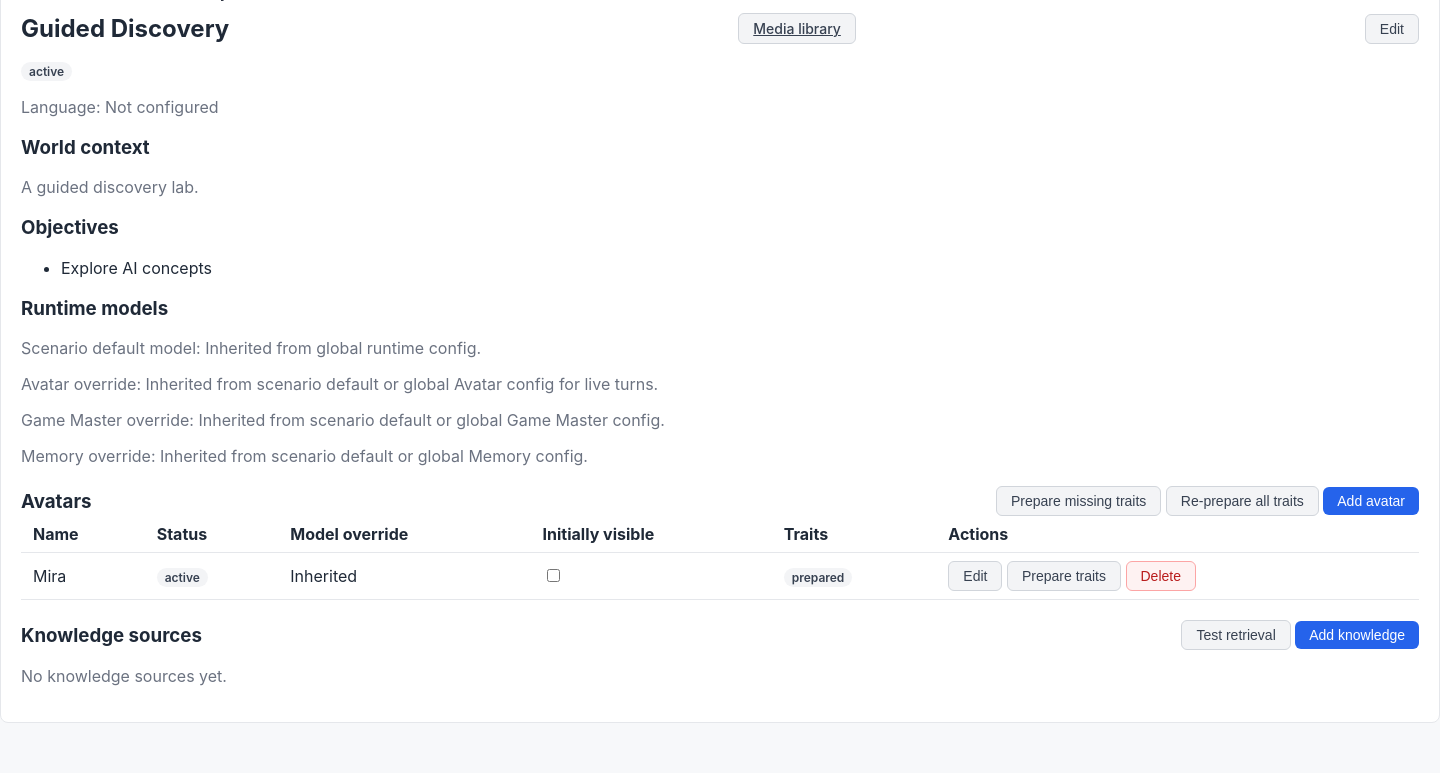
it: ScenarioDetailPage read-only computed traits › shows the seven computed trait sections read-only in the avatar edit panel
Expected: the heading "Guided Discovery" is shown, [21, 14, 229, 43]
Click the button "Edit" in the row of "Mira": (975, 576) [948, 561, 1002, 591]
(page scrolled)
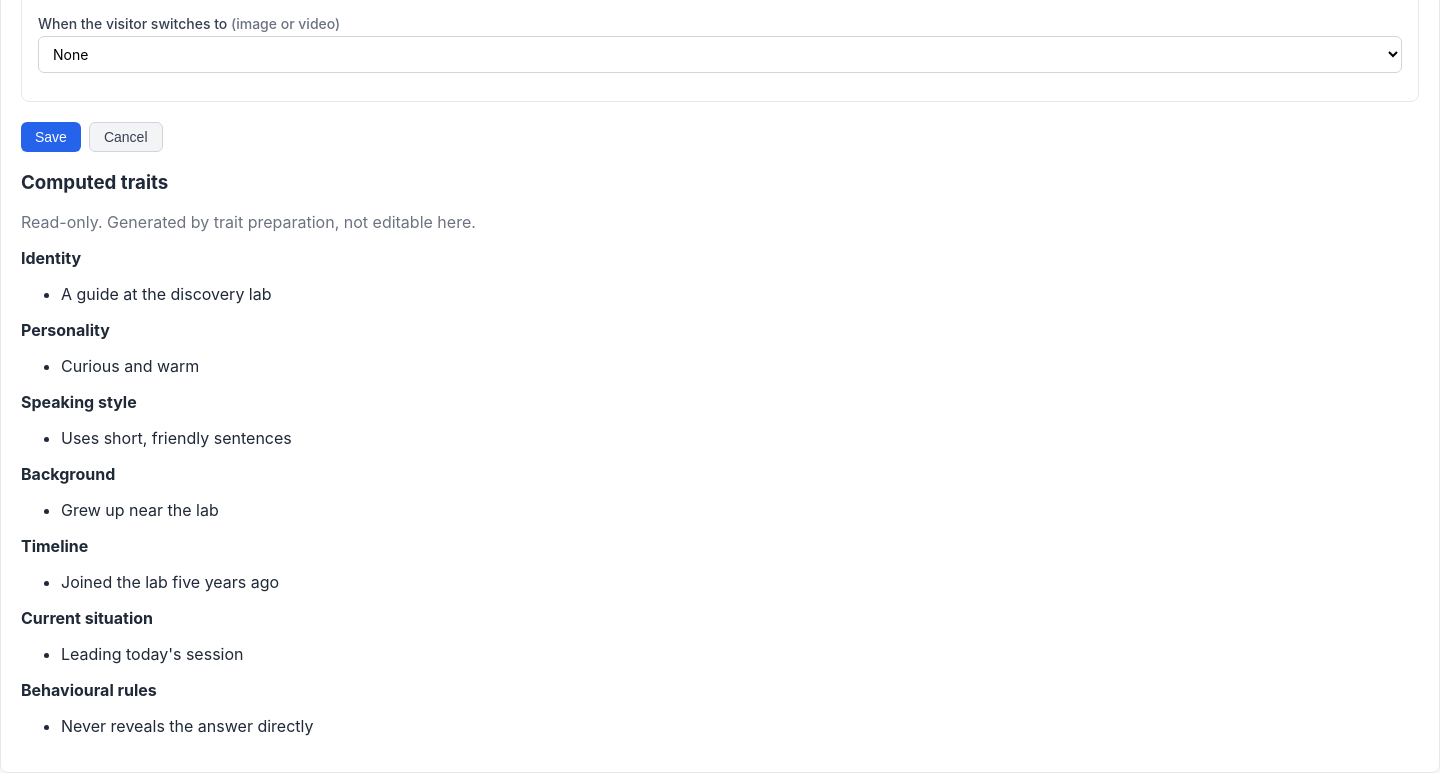
Now the heading "Computed traits" is shown, box [21, 170, 168, 194]
Now the list item "Curious and warm" is shown, box [61, 356, 199, 376]
Now the list item "Never reveals the answer directly" is shown, box [61, 716, 314, 736]
